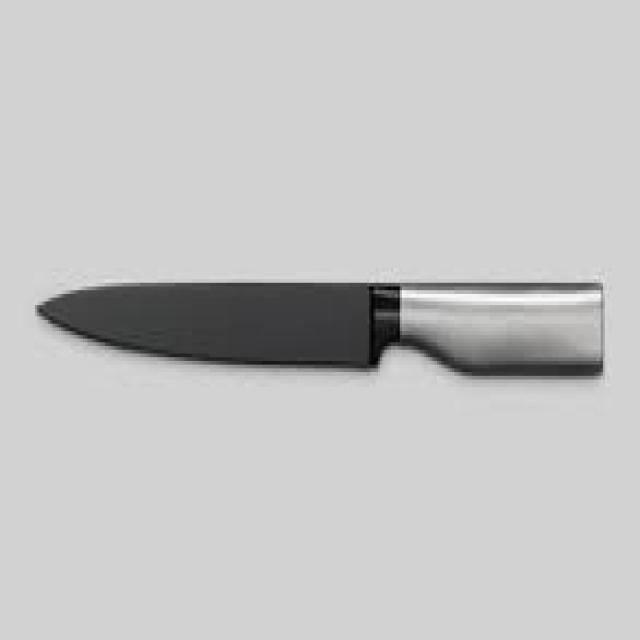Knife: (35, 275, 603, 376)
